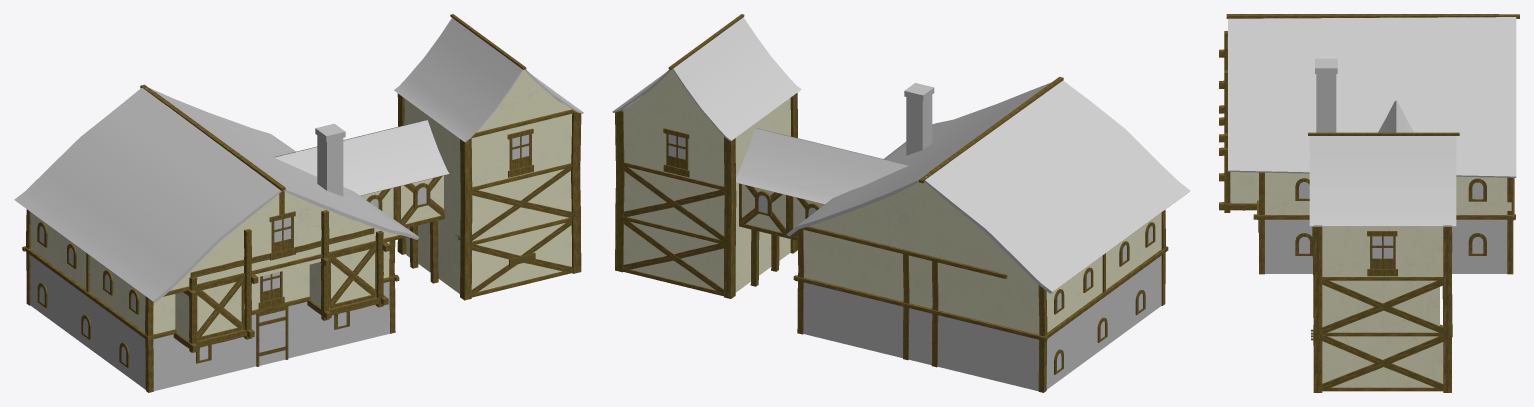
The model's file is Inn.fbx.
3 renders of one model, left to right at view 1: azimuth 30°, elevation 25°; view 2: azimuth 150°, elevation 25°; view 3: azimuth 270°, elevation 25°, orthographic. The views are drawn at different scales.
Visible parts, largest first — view 1: Roof30, Roof_End22, Roof31, Roof32, Wall_Plane_Long28, Wall_Plane_Long23, Wall_Plane_Long10, Wall_Plane_Long24, Wall_Plane_Long9, Wall_Plane_Long11, Wall_Plane_Long19, Wall_Criss_Cross4 (+36 smaller); view 2: Roof30, Roof_End23, Wall_Plane_Long13, Wall_Plane_Long14, Wall_Plane_Long16, Wall_Plane_Long17, Roof32, Wall_Plane_Long33, Roof31, Wall_Plane_Long30, Wall_Plane_Long27, Wall_Plane_Long11 (+30 smaller); view 3: Roof30, Roof32, Roof31, Wall_Plane_Long32, Wall_Plane_Long26, Wall_Plane_Long29, Wall_Plane_Long18, Wall_Plane_Long12, Wood_Pillar_Long_Thick14, Wall_Plane_Long21, Chimney6, Wall_Plane_Long22 (+24 smaller).
Boxes of the visible parts, left/top/right/bottom form: Roof30: left=14, top=87, right=419, bottom=302; Roof_End22: left=170, top=192, right=398, bottom=290; Roof31: left=429, top=44, right=583, bottom=142; Roof32: left=394, top=18, right=547, bottom=115; Wall_Plane_Long28: left=471, top=114, right=572, bottom=186; Wall_Plane_Long23: left=472, top=169, right=571, bottom=241; Wall_Plane_Long10: left=153, top=314, right=256, bottom=391; Wall_Plane_Long24: left=471, top=223, right=571, bottom=291; Wall_Plane_Long9: left=288, top=281, right=389, bottom=358; Wall_Plane_Long11: left=87, top=297, right=145, bottom=389; Wall_Plane_Long19: left=30, top=255, right=87, bottom=346; Wall_Criss_Cross4: left=197, top=277, right=244, bottom=340; Roof30: left=787, top=80, right=1190, bottom=293; Roof_End23: left=809, top=176, right=1036, bottom=283; Wall_Plane_Long13: left=937, top=315, right=1038, bottom=391; Wall_Plane_Long14: left=803, top=282, right=903, bottom=357; Wall_Plane_Long16: left=938, top=262, right=1038, bottom=334; Wall_Plane_Long17: left=803, top=230, right=903, bottom=301; Roof32: left=612, top=43, right=766, bottom=141; Wall_Plane_Long33: left=623, top=110, right=724, bottom=186; Roof31: left=648, top=17, right=801, bottom=114; Wall_Plane_Long30: left=624, top=167, right=724, bottom=239; Wall_Plane_Long27: left=623, top=222, right=723, bottom=290; Wall_Plane_Long11: left=1102, top=255, right=1161, bottom=348; Roof30: left=1228, top=17, right=1516, bottom=177; Roof32: left=1383, top=136, right=1456, bottom=226; Roof31: left=1309, top=136, right=1382, bottom=226; Wall_Plane_Long32: left=1322, top=226, right=1443, bottom=276; Wall_Plane_Long26: left=1322, top=336, right=1443, bottom=387; Wall_Plane_Long29: left=1322, top=280, right=1439, bottom=332; Wall_Plane_Long18: left=1452, top=219, right=1507, bottom=273; Wall_Plane_Long12: left=1265, top=219, right=1312, bottom=273; Wood_Pillar_Long_Thick14: left=1313, top=225, right=1322, bottom=392; Wall_Plane_Long21: left=1456, top=176, right=1511, bottom=214; Chimney6: left=1315, top=58, right=1337, bottom=132; Wall_Plane_Long22: left=1265, top=172, right=1309, bottom=214.
Bounding box in the file's own units: 2854 × 1283 × 1519.
